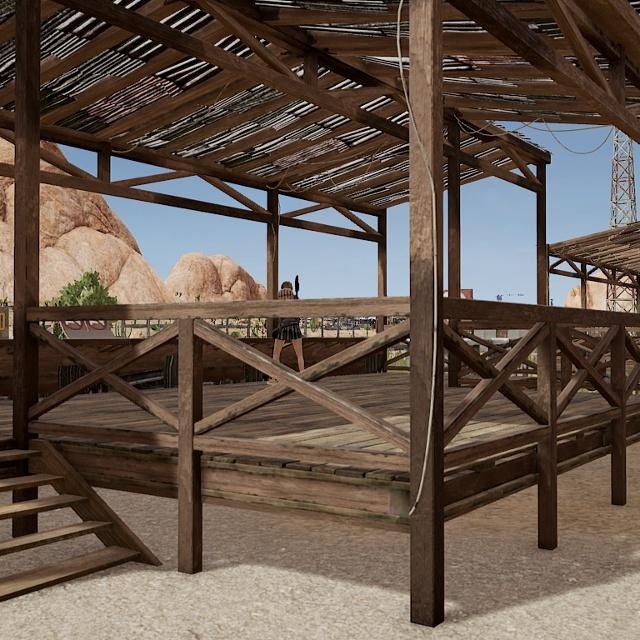head: (279, 279, 296, 296)
people: (268, 278, 309, 390)
